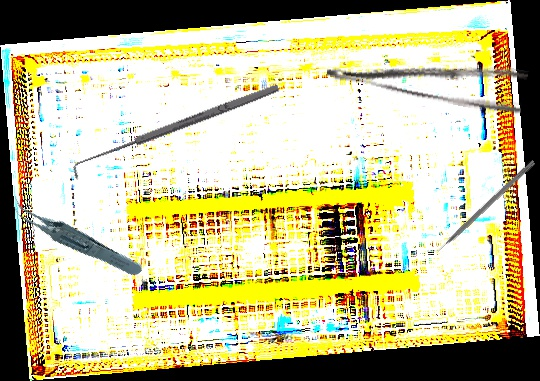Chopper: (425, 154, 536, 259)
Dressing Forceps: (325, 33, 529, 118)
Hook Surgical: (68, 80, 284, 181)
Tissue Forceps: (7, 173, 145, 300)
